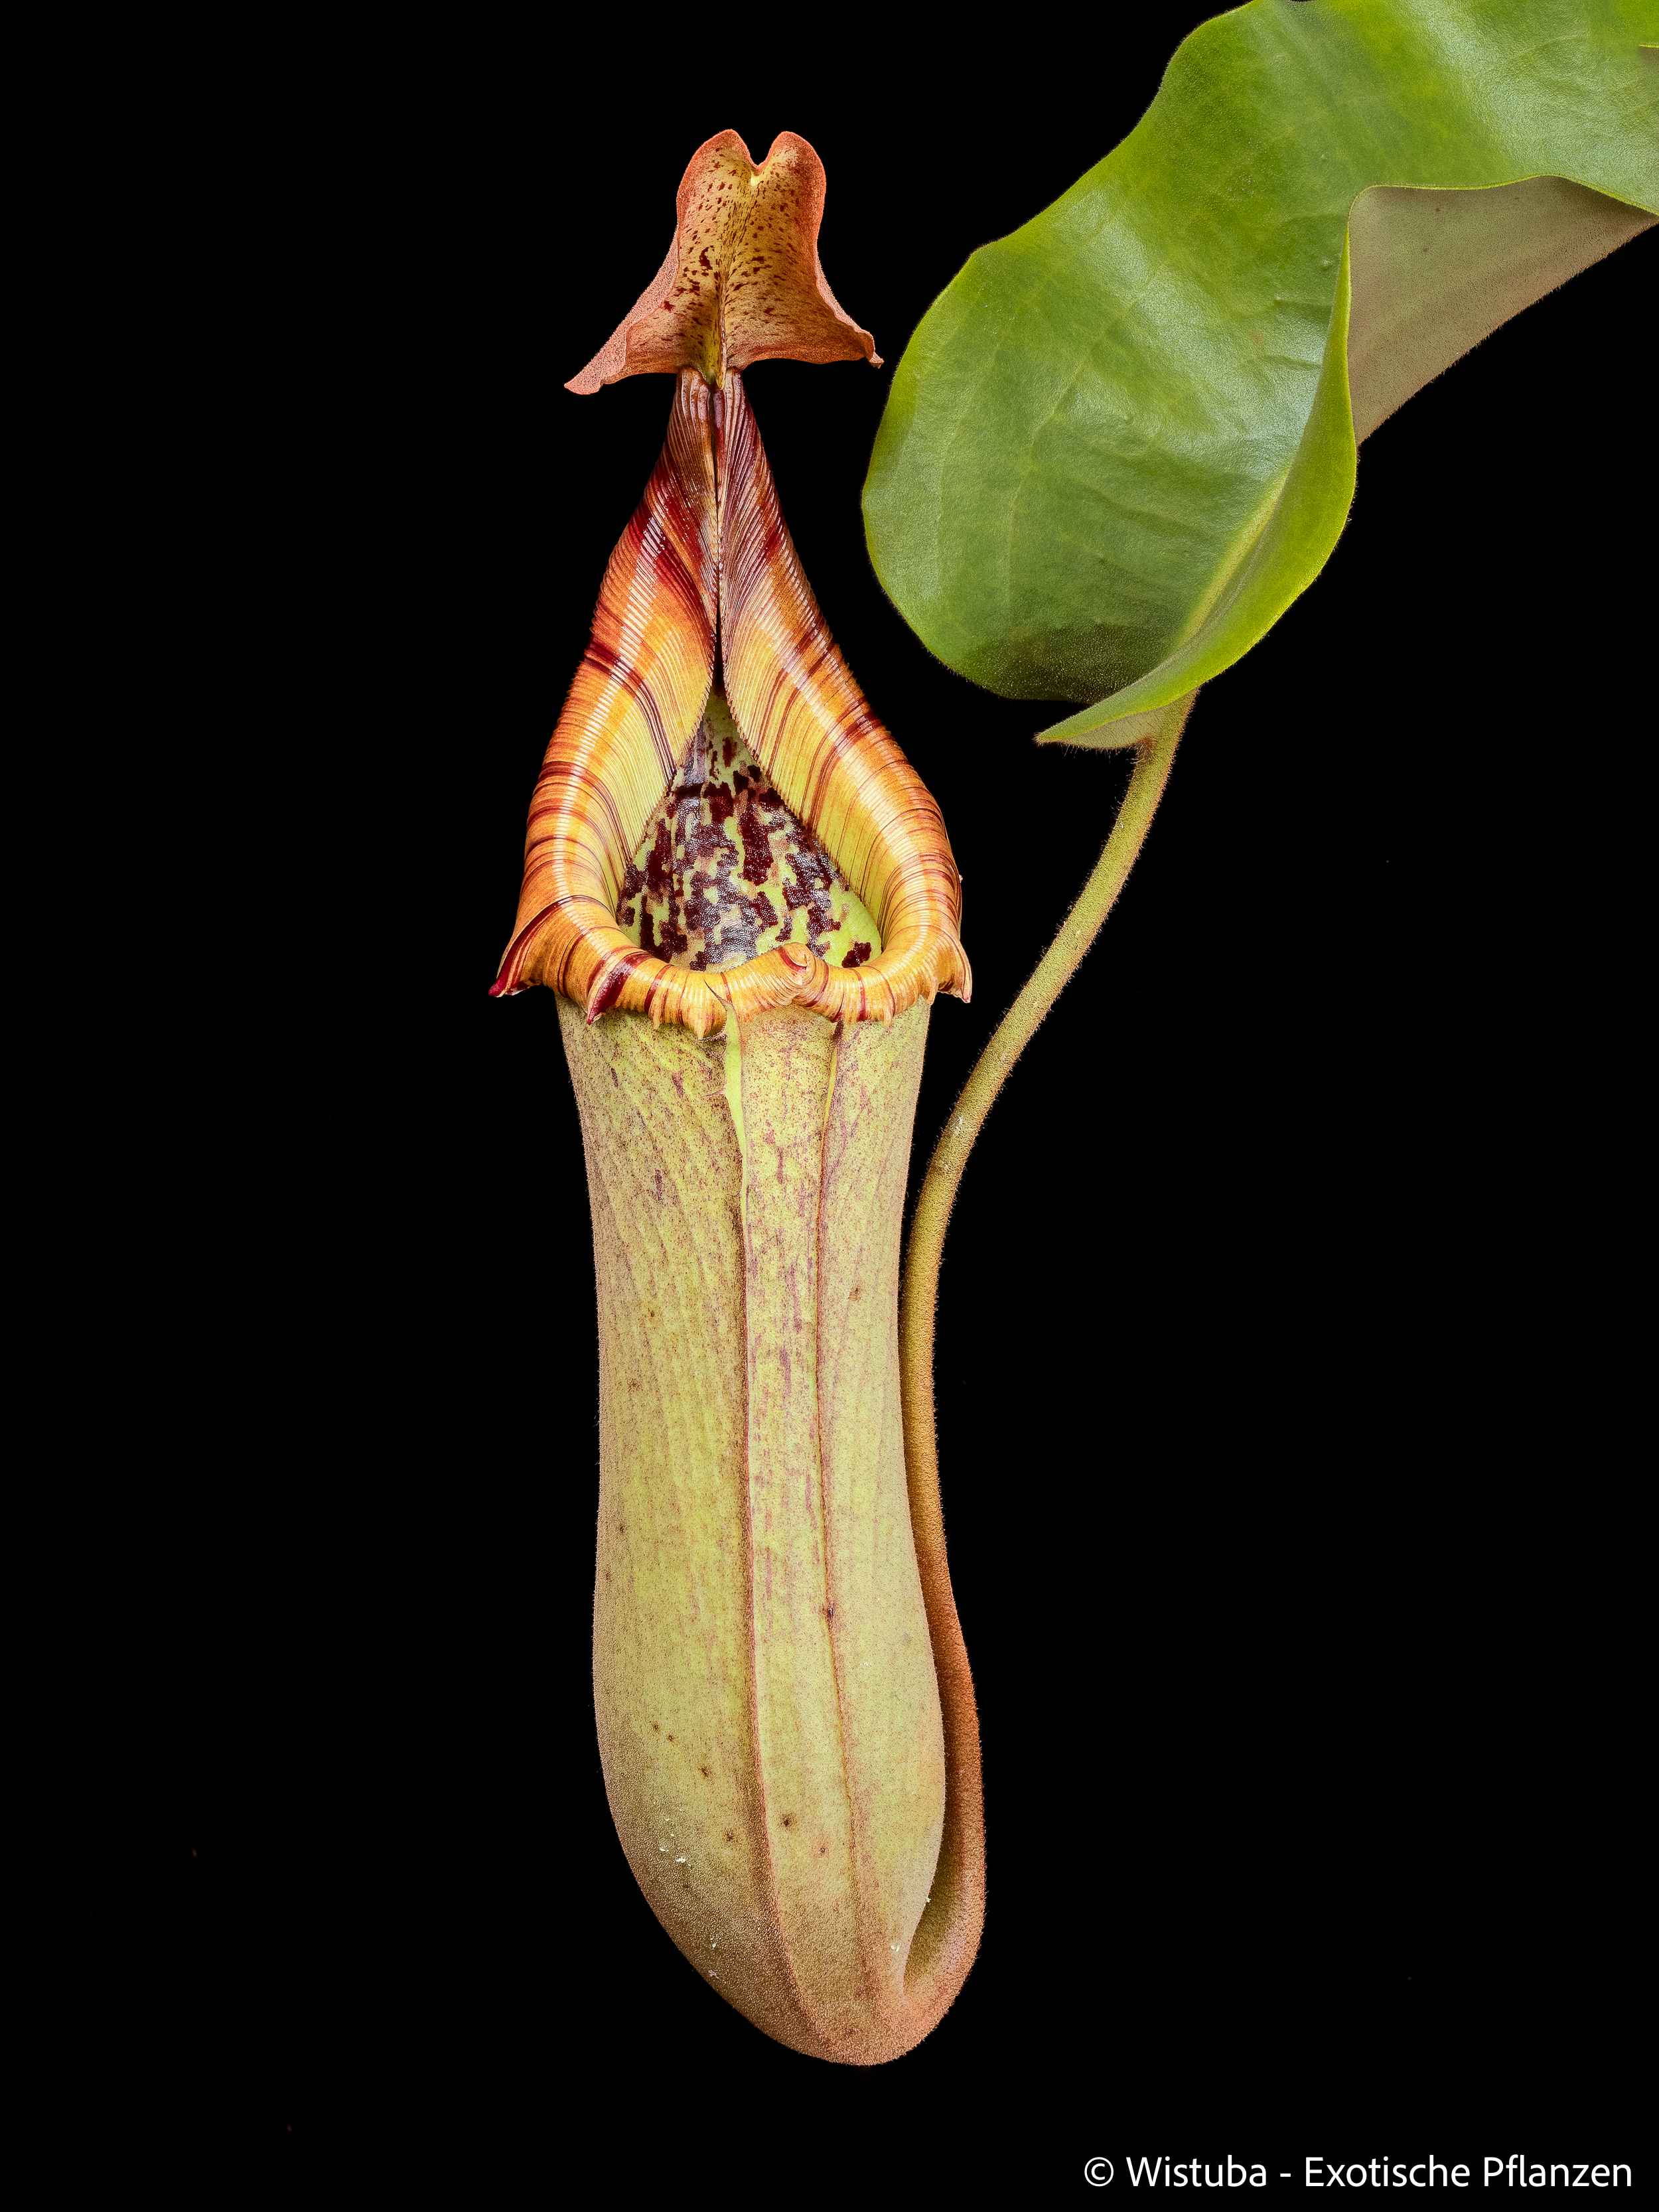truncata: (357, 61, 1134, 2113)
